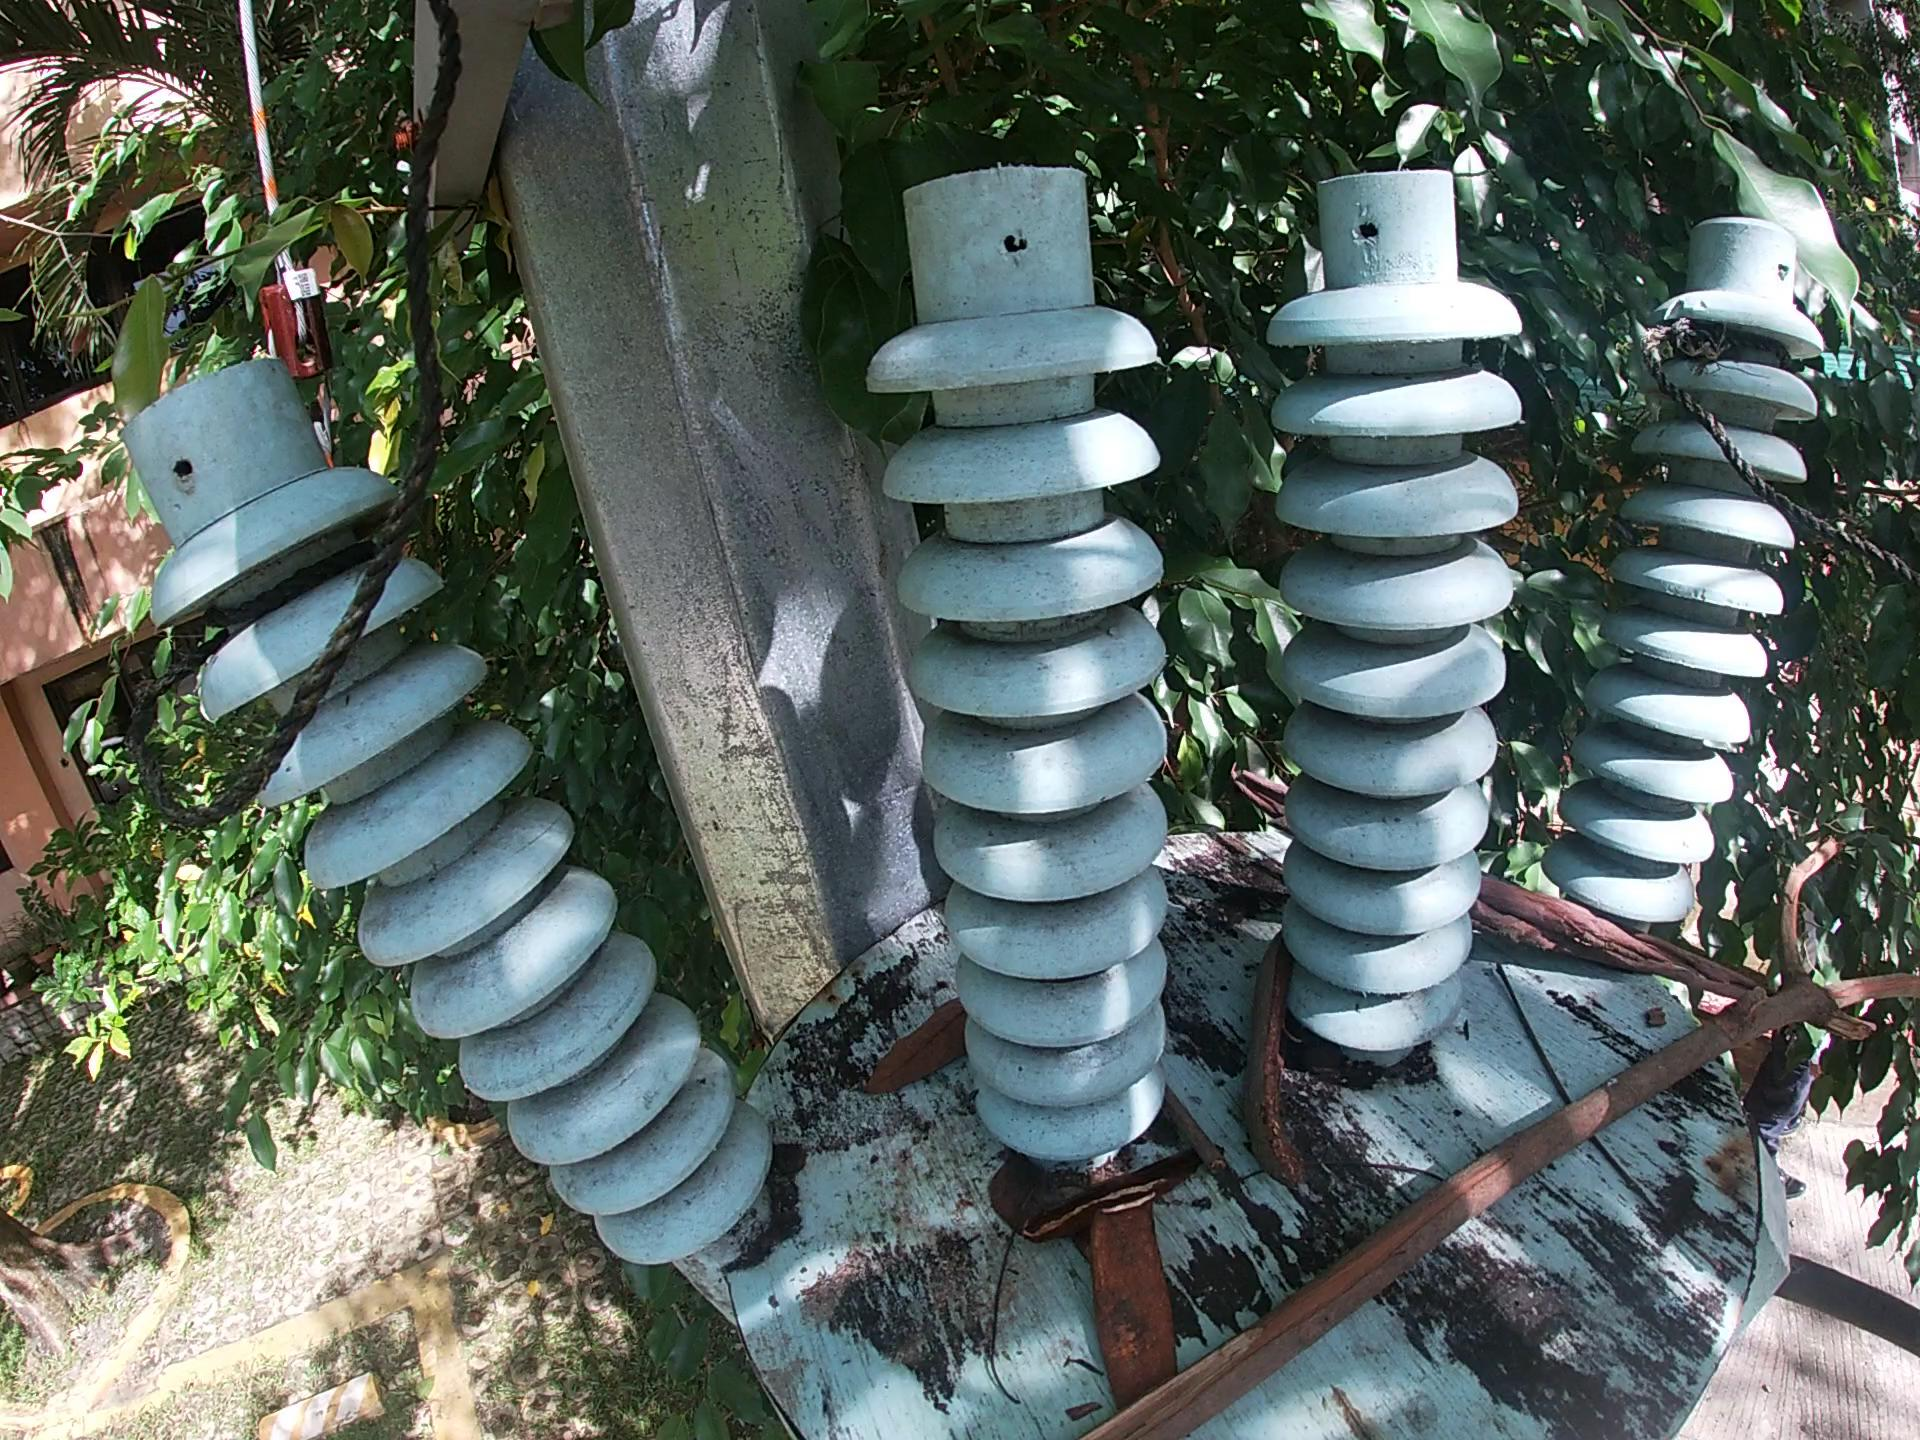leaf: (851, 1001, 958, 1106), (999, 1174, 1061, 1251)
mahogany fruit: (1247, 933, 1330, 1190), (1099, 1193, 1172, 1376)
tree branch: (996, 839, 1912, 1438), (1051, 836, 1920, 1432), (1500, 977, 1763, 1283), (1465, 871, 1757, 1013), (1042, 1137, 1212, 1225), (974, 1219, 1039, 1410), (1170, 1092, 1241, 1184), (1226, 758, 1294, 824)
